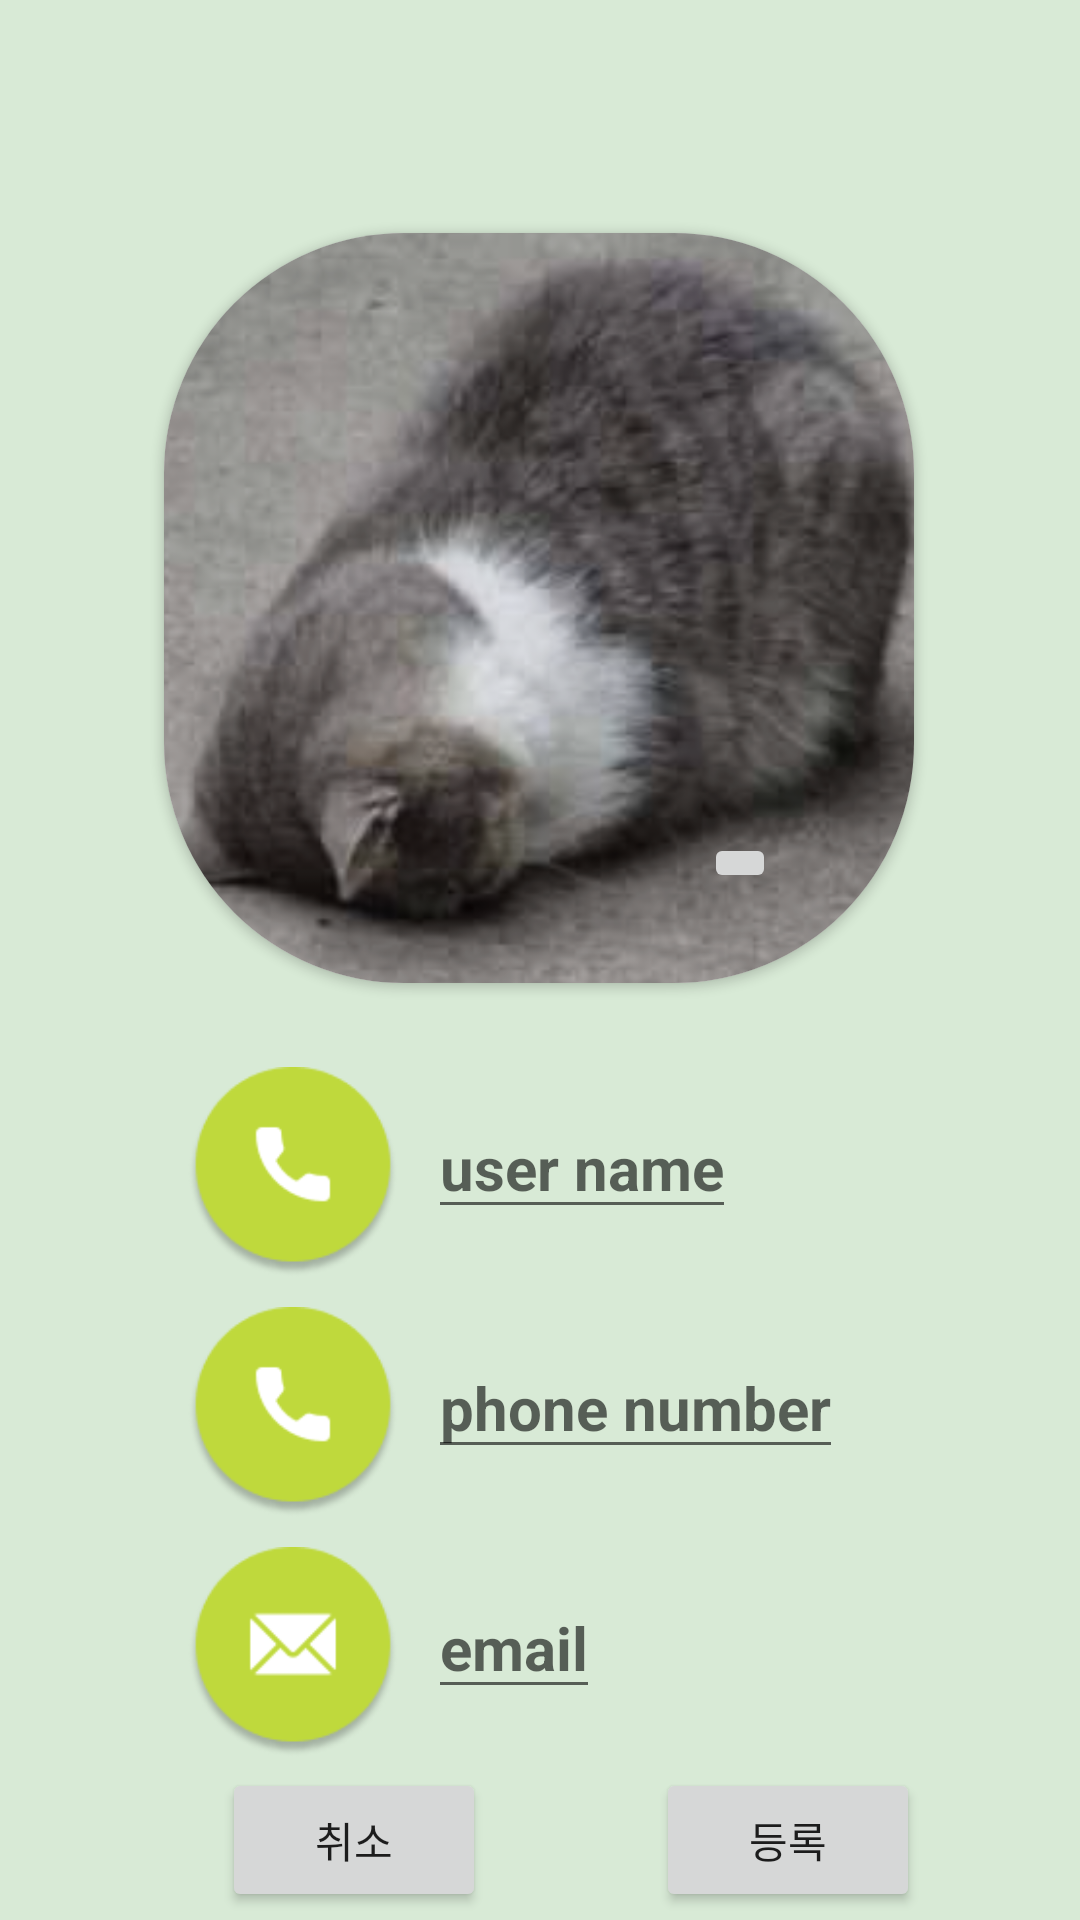

Named icons in this screenshot (1080*1920) and their centers, (x,y):
call: (293,1168), (293,1408)
message: (293,1648)
